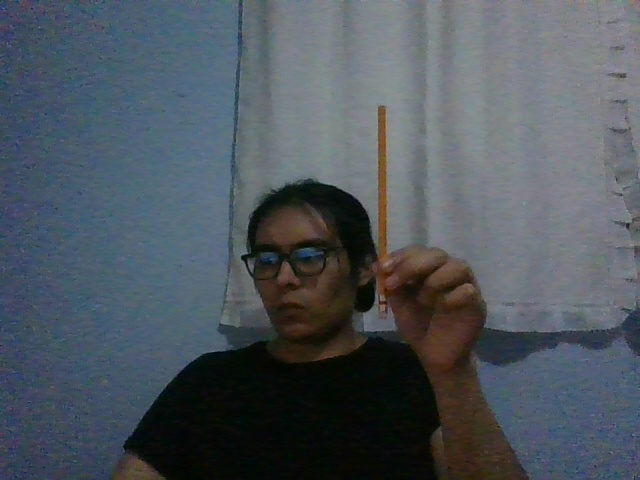lapiz: (374, 104, 389, 320)
